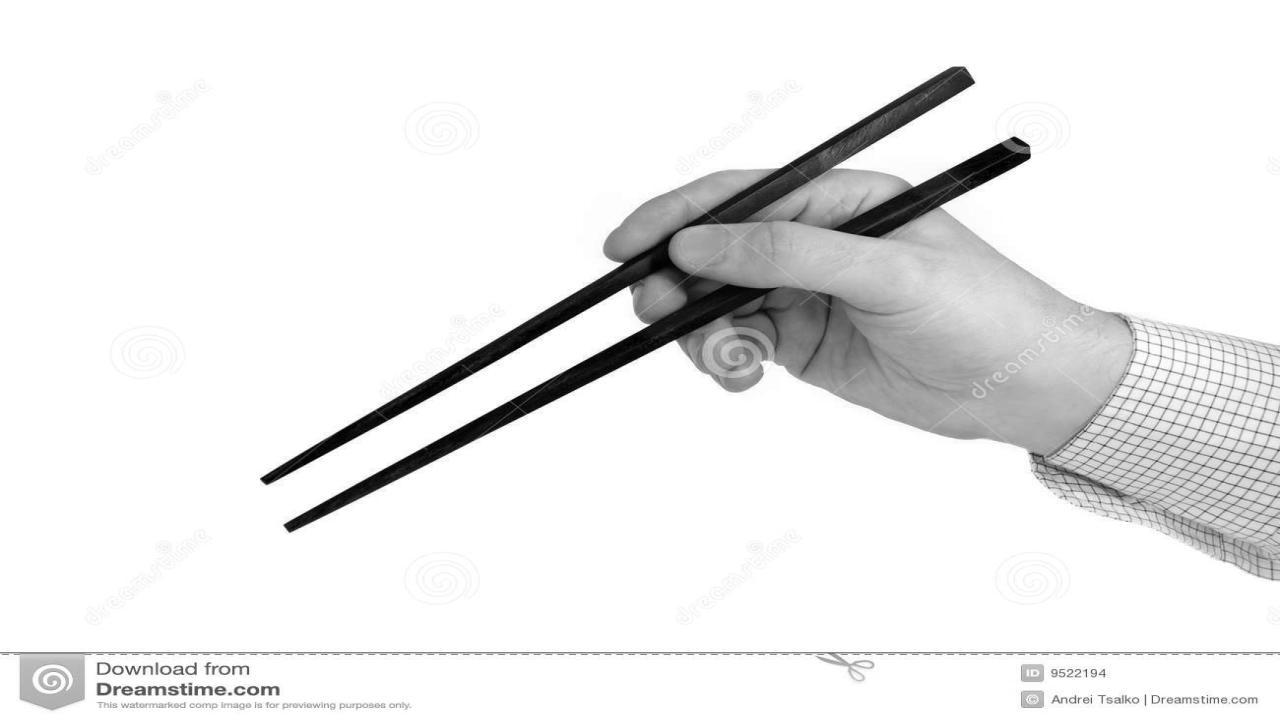chopstick: (260, 64, 987, 486), (278, 138, 1044, 536)
hand: (605, 170, 1032, 442)
